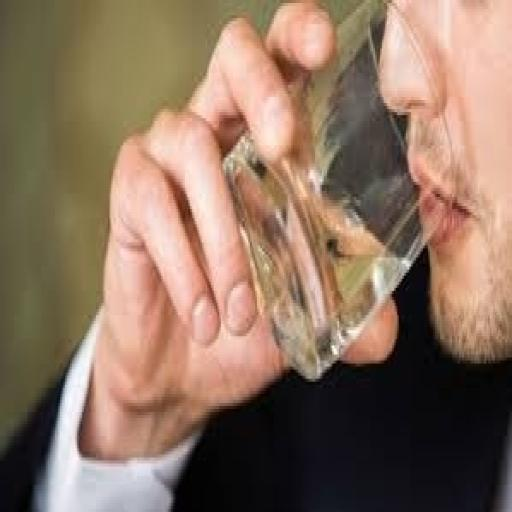drinking: (218, 3, 450, 382)
